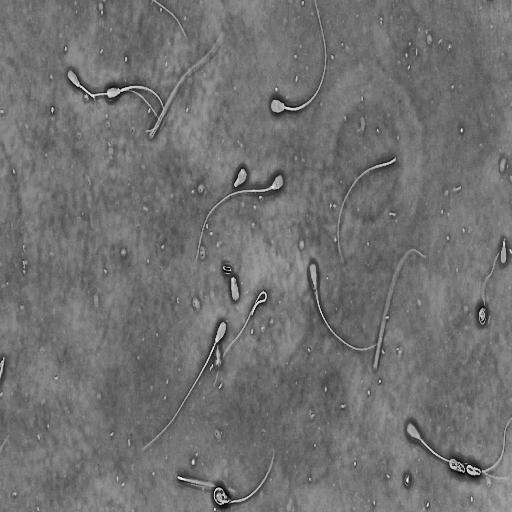coiled-tail: (213, 450, 274, 505), (466, 415, 512, 478)
folded-tail: (79, 84, 160, 121)
loose-head: (448, 456, 466, 476), (233, 165, 248, 189), (230, 274, 240, 303), (500, 236, 508, 266)
loose-tail: (336, 154, 399, 261), (211, 287, 269, 390), (477, 248, 501, 328)
normal: (137, 316, 229, 456), (194, 171, 286, 265), (306, 259, 389, 356), (269, 0, 328, 117), (405, 419, 511, 483), (65, 67, 162, 124), (211, 444, 277, 511), (106, 83, 166, 133)
